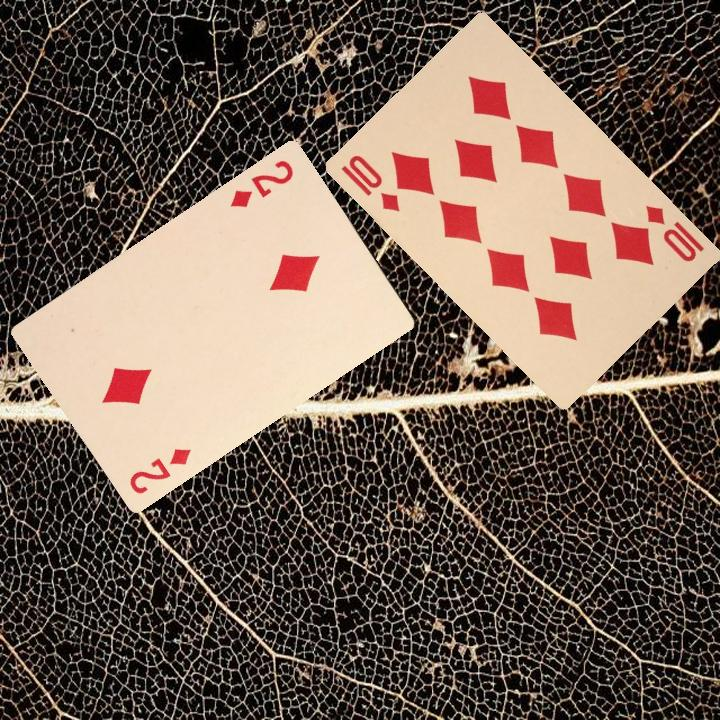10d: (641, 200, 707, 265), (336, 151, 403, 215)
2d: (226, 156, 297, 211), (125, 444, 194, 497)
